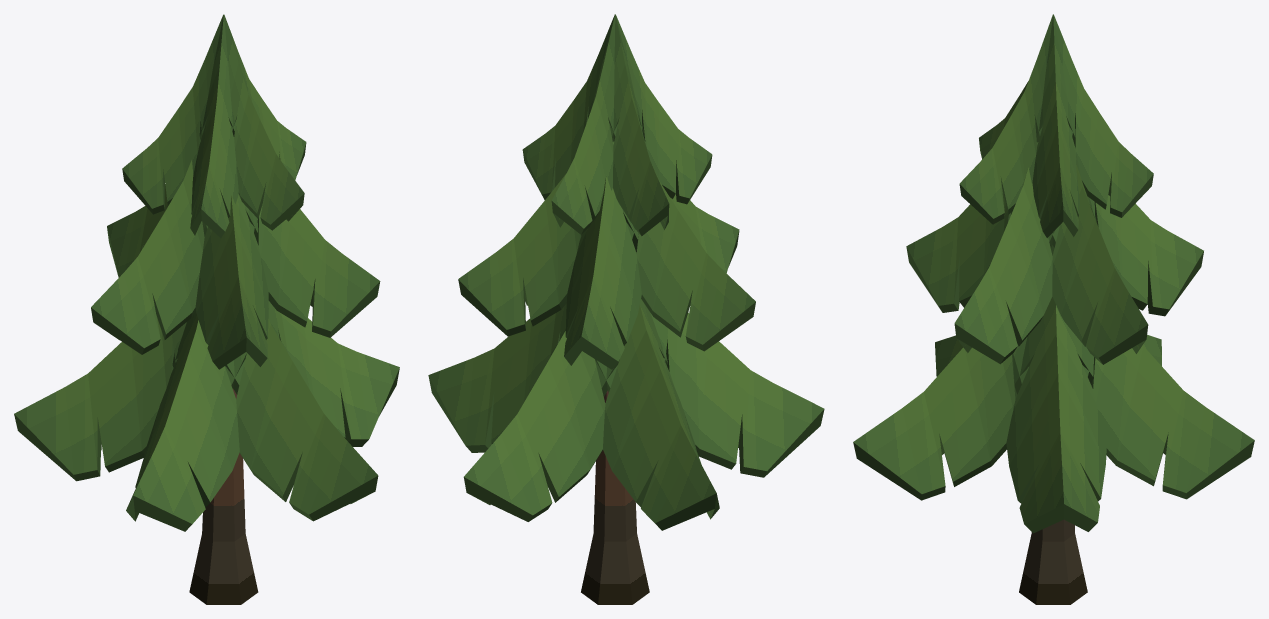
The model's file is Spruce_008.fbx.
3 renders of one model, left to right at view 1: azimuth 30°, elevation 25°; view 2: azimuth 150°, elevation 25°; view 3: azimuth 270°, elevation 25°, orthographic.
Parts seen in each view (by area): view 1: Spruce.008; view 2: Spruce.008; view 3: Spruce.008.
Part boxes in pixels (x1,y1,x2,y2): Spruce.008: (14,14,399,604); Spruce.008: (428,14,824,604); Spruce.008: (853,14,1254,604).
Bounding box in the file's own units: 8.71 × 14.27 × 8.99.
